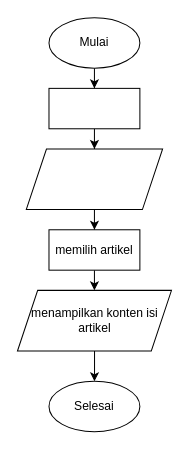
This 190x449 diagram has some shape labels left out. The centre of each missing label's shape, as x and y in pixels:
"memilih menu artikel" goes at [94,108].
"Menampilkan data artikel" goes at [94,179].
